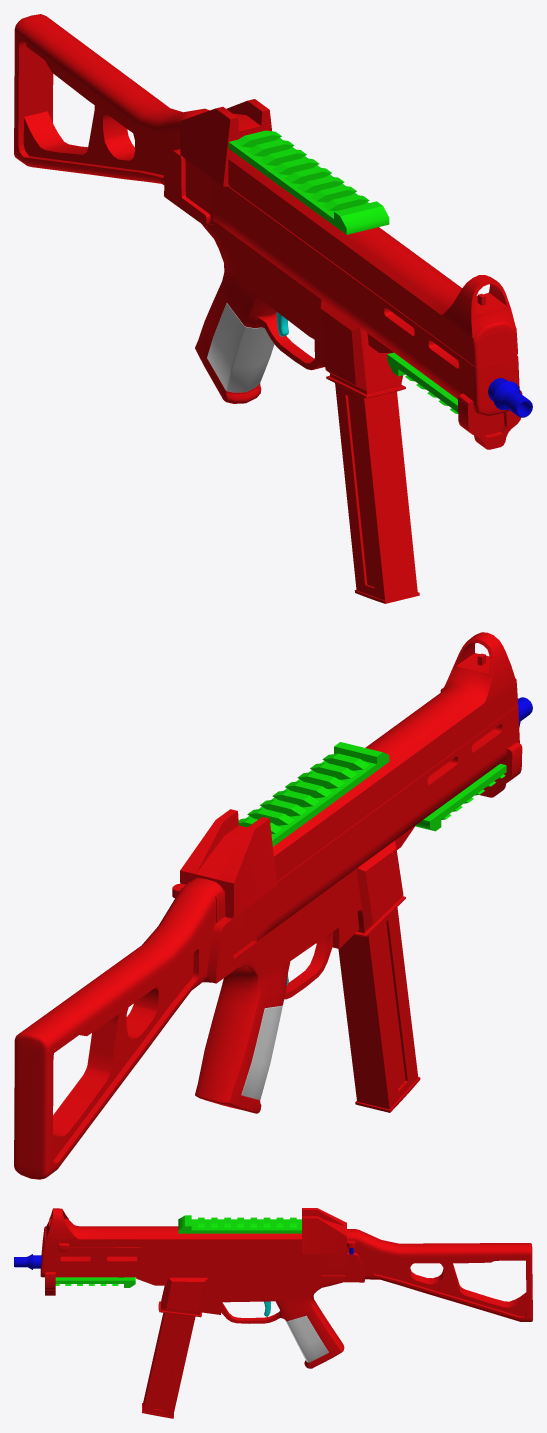
The model's file is SMG.fbx.
The picture shows the model from 3 angles, top to bottom: view 1: azimuth 30°, elevation 25°; view 2: azimuth 150°, elevation 25°; view 3: azimuth 270°, elevation 25°; orthographic projection. The views are drawn at different scales.
Visible parts, largest first — view 1: UMP 45; view 2: UMP 45; view 3: UMP 45.
Boxes of the visible parts, x1,y1,x2,y2 form: UMP 45: [14, 14, 532, 603]; UMP 45: [14, 632, 532, 1179]; UMP 45: [14, 1208, 532, 1418].
Size of the model in its own units: 0.0437 by 0.2764 by 0.6333.
